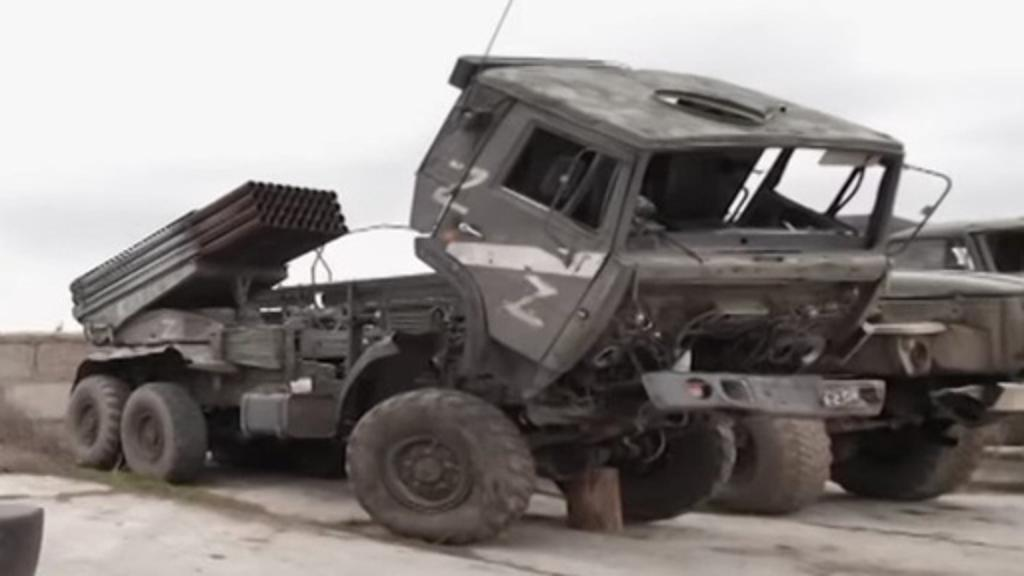MLRS: (60, 52, 902, 548)
